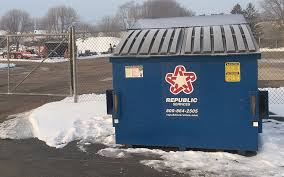Dumpster: (99, 21, 271, 160)
